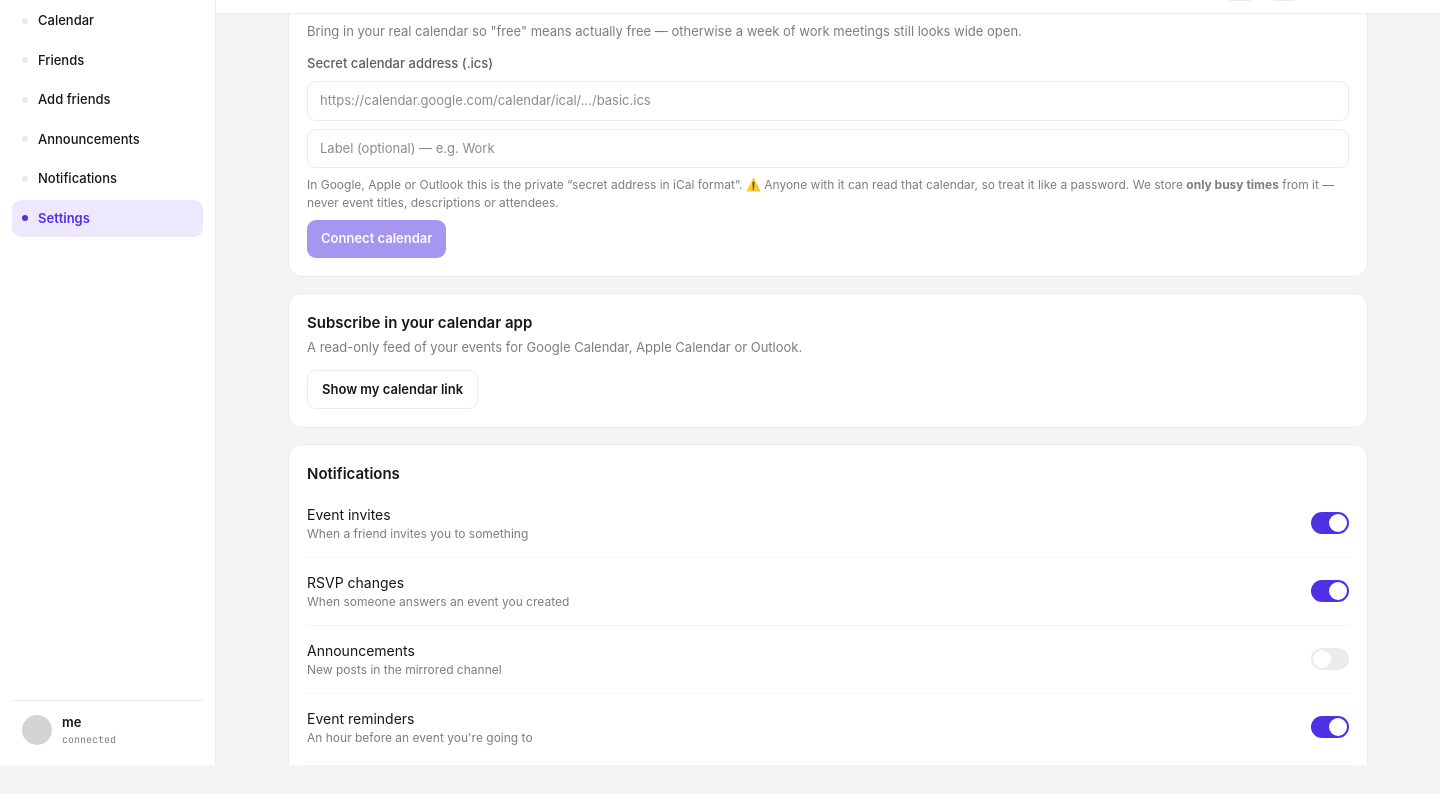
settings page › the calendar subscription link › confirms before regenerating
The image size is (1440, 794).
(page scrolled)
Click the button "Show my calendar link": (393, 389) [307,370,478,409]
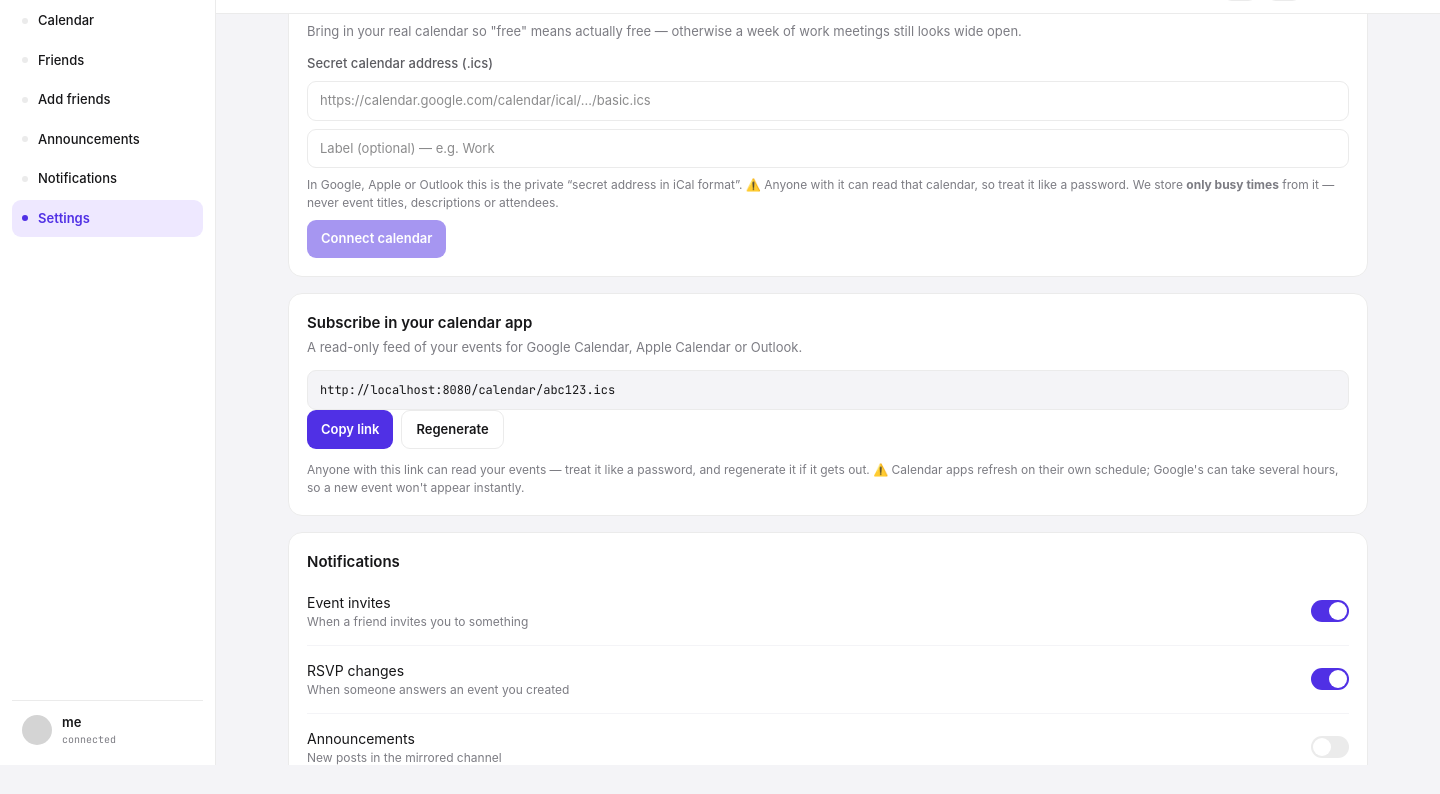
Now the text "http://localhost:8080/calendar/abc123.ics" is shown, box [307,370,1349,410]
Click the button "Regenerate": (453, 429) [402,410,504,449]
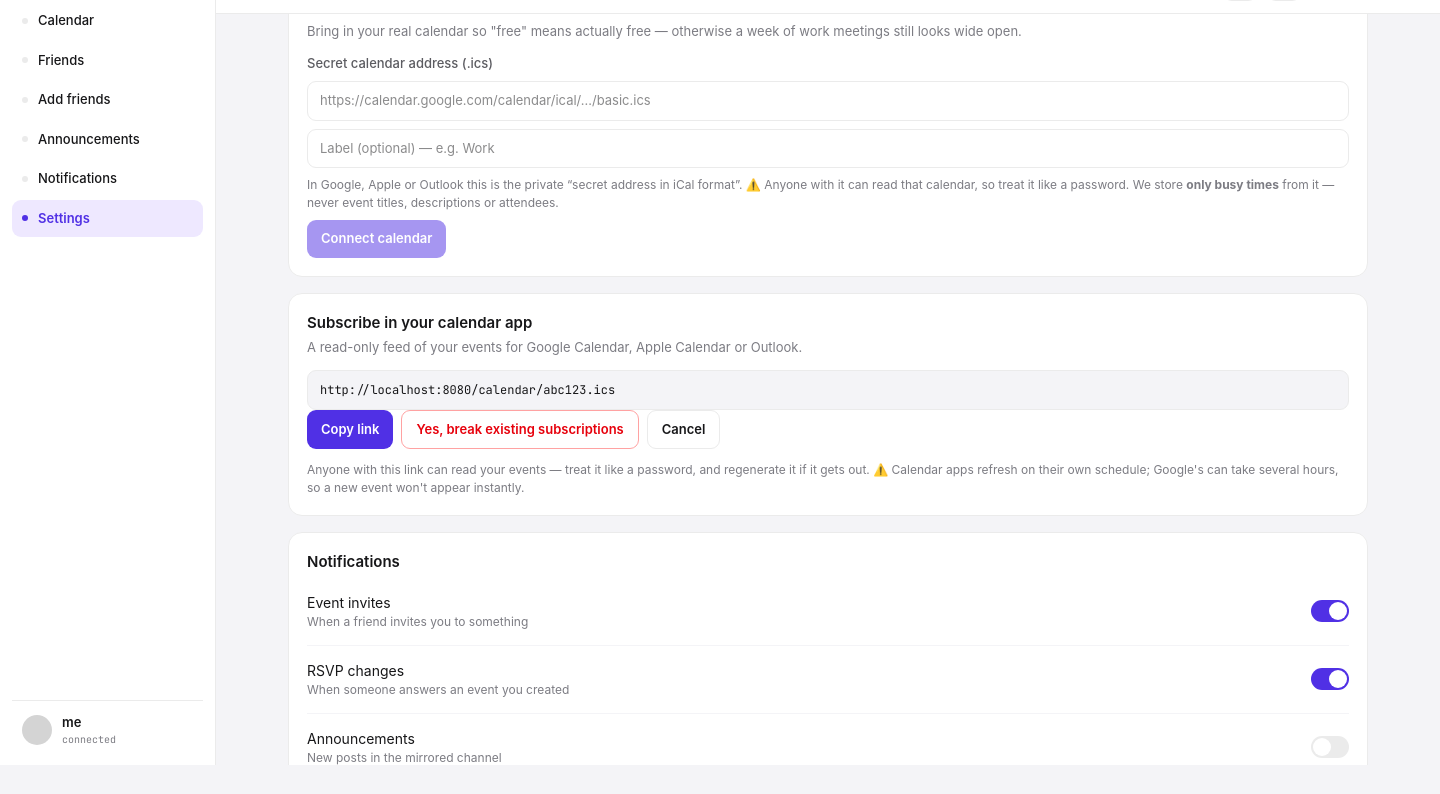
Click the button "Yes, break existing subscriptions": (520, 429) [402,410,639,449]
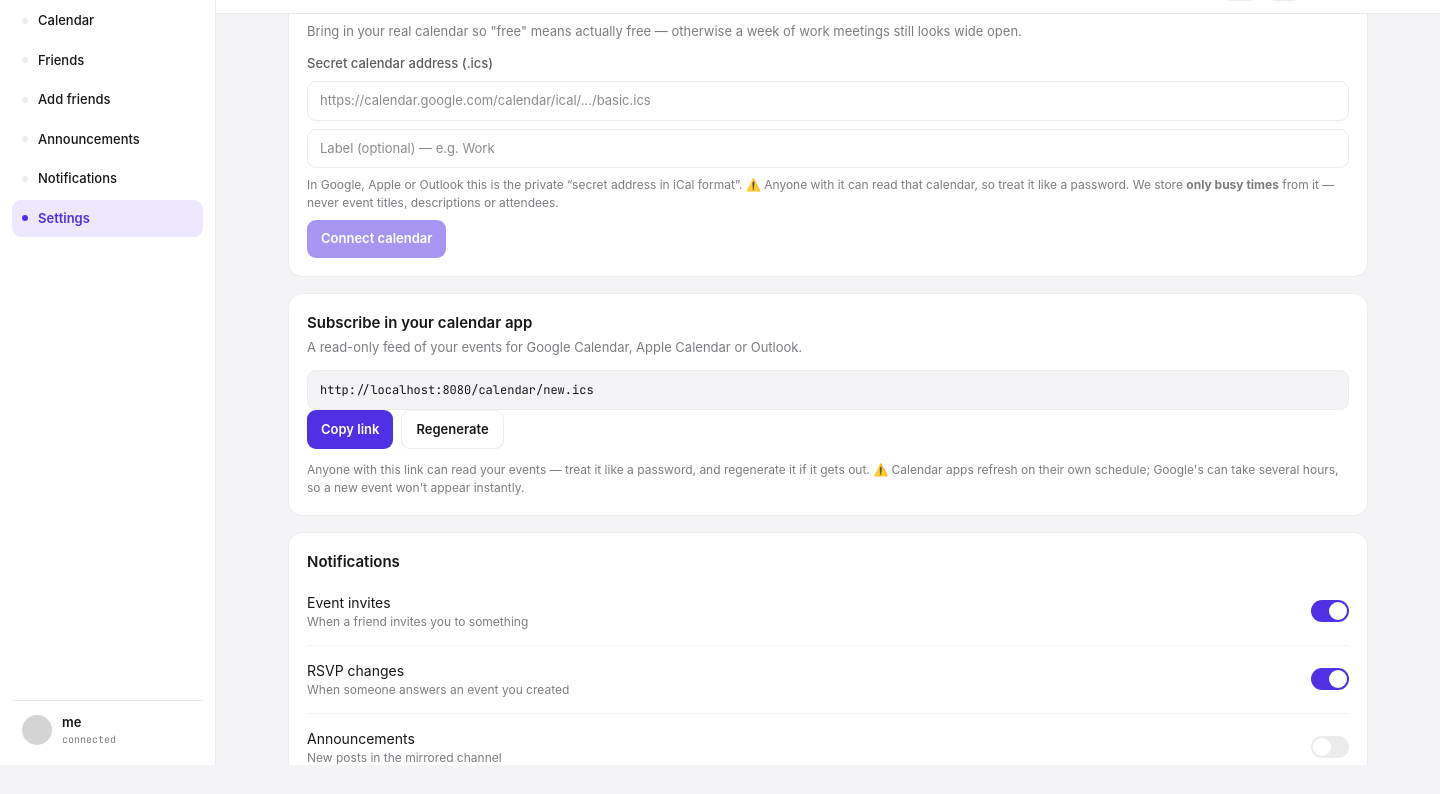
Now the text "http://localhost:8080/calendar/new.ics" is shown, box [307,370,1349,410]
